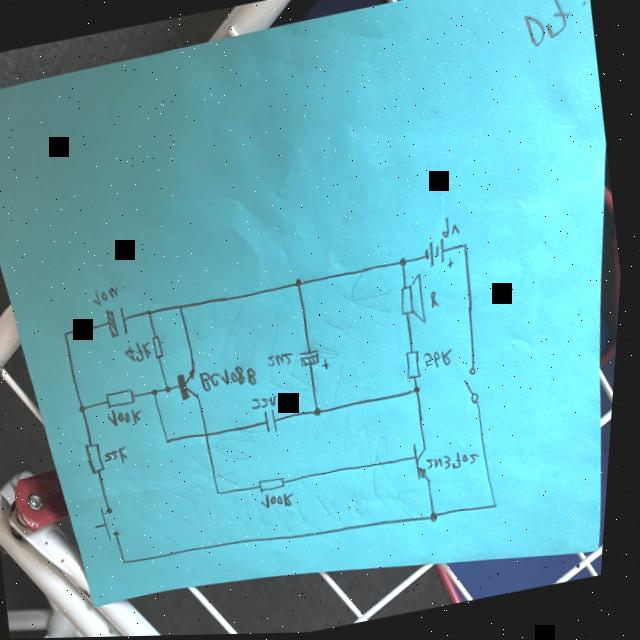capacitor: (105, 302, 137, 342), (297, 343, 335, 376), (263, 407, 286, 437)
crossover: (208, 430, 215, 440)
junction: (295, 276, 307, 290), (433, 511, 445, 524), (316, 406, 327, 419), (462, 241, 473, 254), (166, 384, 177, 396), (400, 257, 411, 269), (415, 385, 426, 396), (154, 386, 164, 397), (81, 404, 91, 415), (178, 302, 187, 313), (497, 503, 506, 512), (65, 329, 73, 339), (149, 308, 156, 317), (127, 557, 134, 566), (168, 437, 175, 446), (220, 489, 227, 498)
resistor: (85, 435, 113, 479), (105, 385, 142, 410), (405, 349, 428, 383), (262, 474, 291, 495), (154, 335, 170, 363)
source: (423, 236, 458, 274)
switch: (94, 501, 130, 546), (461, 366, 488, 409)
text: (201, 360, 265, 397), (428, 448, 488, 476), (109, 405, 149, 430), (93, 282, 127, 308), (424, 348, 458, 373), (126, 339, 157, 365), (264, 491, 300, 512), (439, 215, 465, 242), (107, 444, 135, 467), (268, 350, 297, 371), (254, 394, 283, 412), (431, 290, 444, 312)
transistor: (410, 439, 442, 486), (174, 364, 206, 404)
